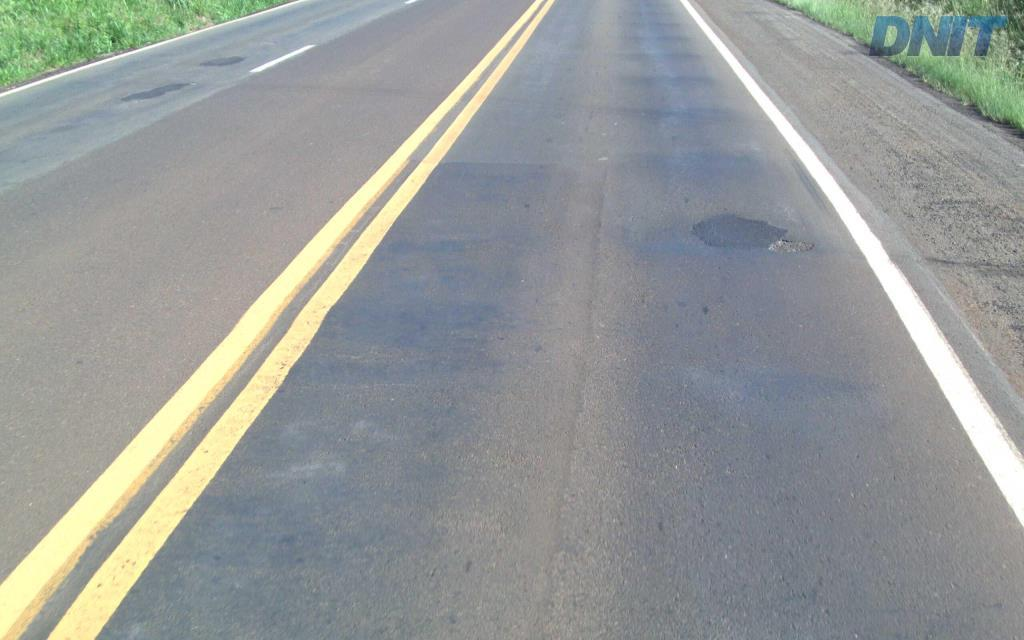pothole: (762, 233, 818, 254)
